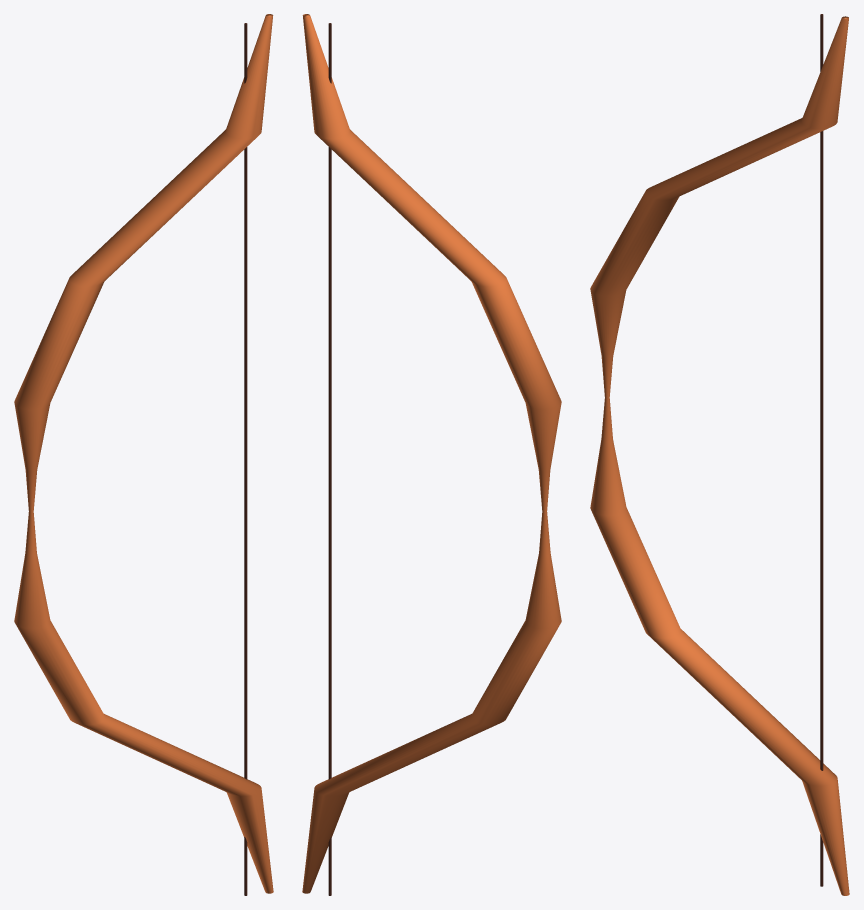
File: elf_bow.dae
3 renders of one model, left to right at view 1: azimuth 30°, elevation 25°; view 2: azimuth 150°, elevation 25°; view 3: azimuth 330°, elevation 25°, orthographic.
Parts seen in each view (by area): view 1: Bow, String; view 2: Bow, String; view 3: Bow, String.
Part boxes in pixels (box(x1,y1,x2,y2)): Bow: box(14, 14, 273, 893); String: box(244, 23, 247, 895); Bow: box(302, 14, 561, 893); String: box(328, 23, 331, 895); Bow: box(590, 16, 849, 895); String: box(820, 14, 823, 886).
Size of the model in its own units: 2.58 by 0.3153 by 8.42.
